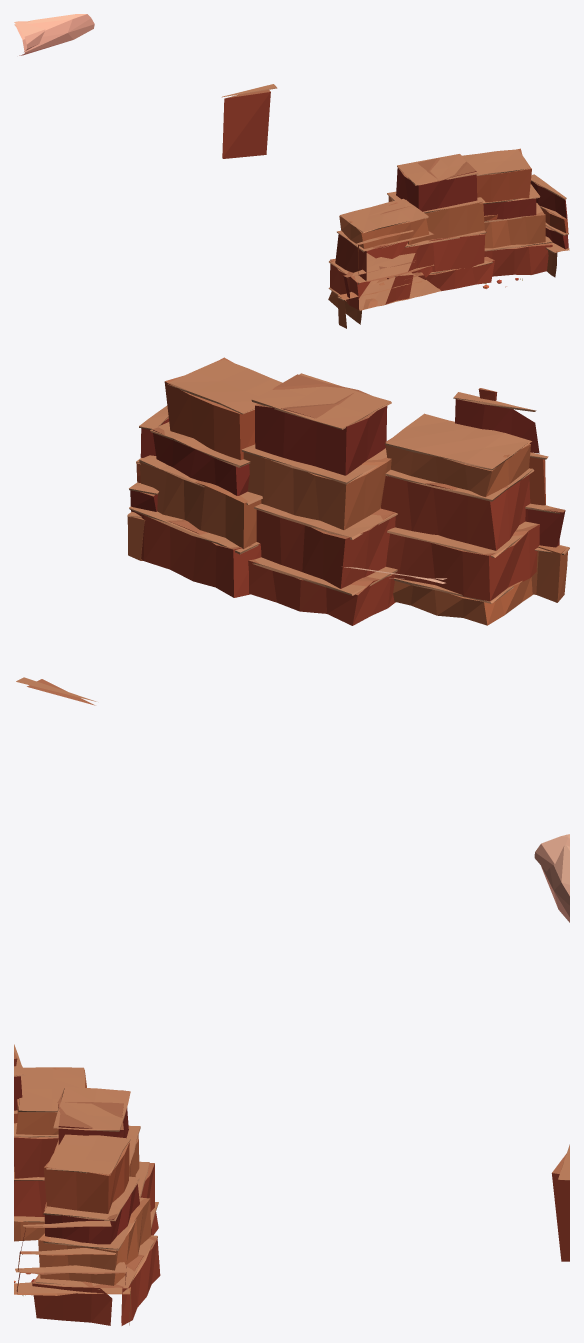
3 renders of one model, top to bottom at view 1: azimuth 30°, elevation 25°; view 2: azimuth 150°, elevation 25°; view 3: azimuth 270°, elevation 25°, orthographic. The views are drawn at different scales.
Parts seen in each view (by area): view 1: scene.3.1 (×2); view 2: scene.3.1; view 3: scene.3.1 (×2).
Boxes of the visible parts, x1,y1,x2,y2 form: scene.3.1 (×2): [14, 14, 569, 328]; scene.3.1: [16, 357, 569, 705]; scene.3.1 (×2): [14, 834, 569, 1325].
Bounding box in the file's own units: 62.5 × 32.42 × 62.5.
